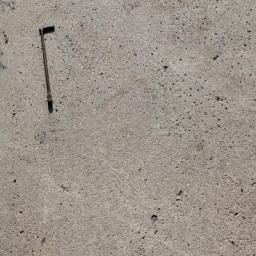FOD: (35, 22, 65, 116)
